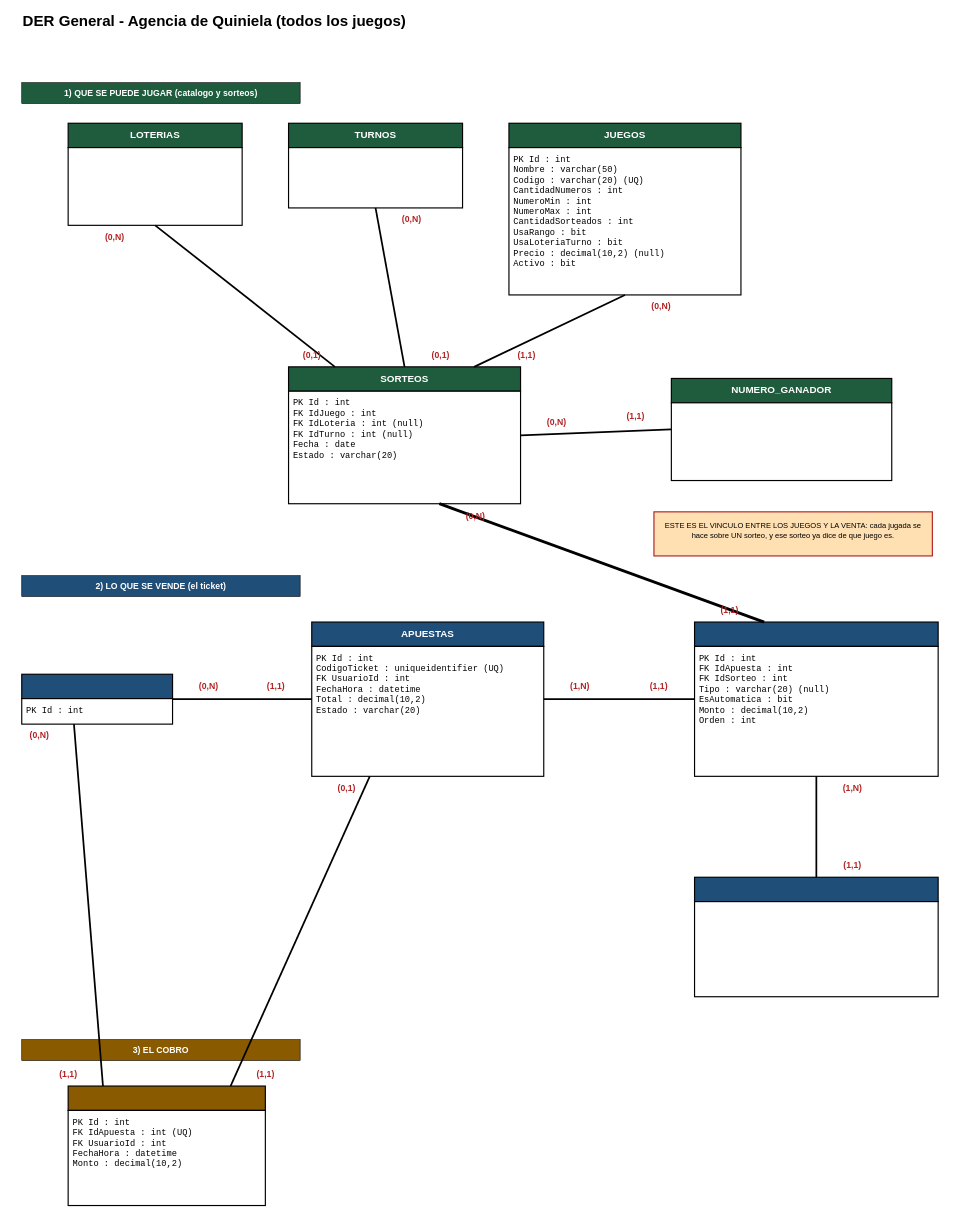
Image size: 959x1216. Some labels were removed from this diagram. The centre of each missing label's shape, as x and y in pixels:
"JUGADA_NUMERO" belongs at point (816, 889).
"JUGADAS" belongs at point (816, 634).
"PAGOS" belongs at point (166, 1098).
"PK Id : int FK IdJugada : int Numero : varchar(4) Orden : int Rango : int (null)" belongs at point (816, 949).
"PK Id : int FK IdSorteo : int Numero : varchar(4) Posicion : int" belongs at point (781, 441).
"PK Id : int Nombre : varchar(30) Activo : bit" belongs at point (375, 177).
"PK Id : int Nombre : varchar(50) Codigo : varchar(20) Activa : bit" belongs at point (154, 186).
"USUARIOS (*)" belongs at point (97, 686).
